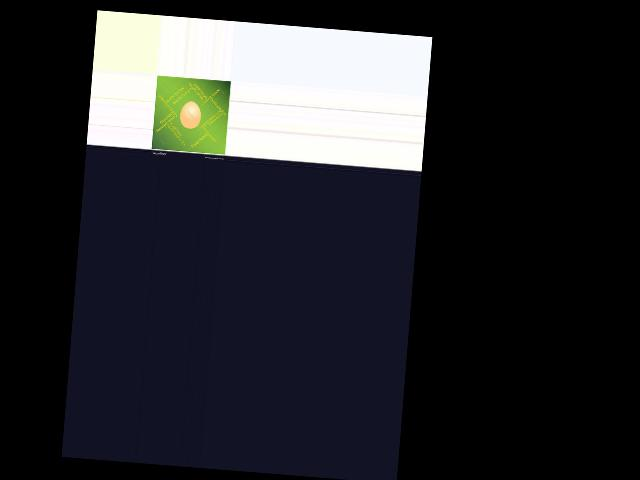egg: (179, 101, 202, 129)
